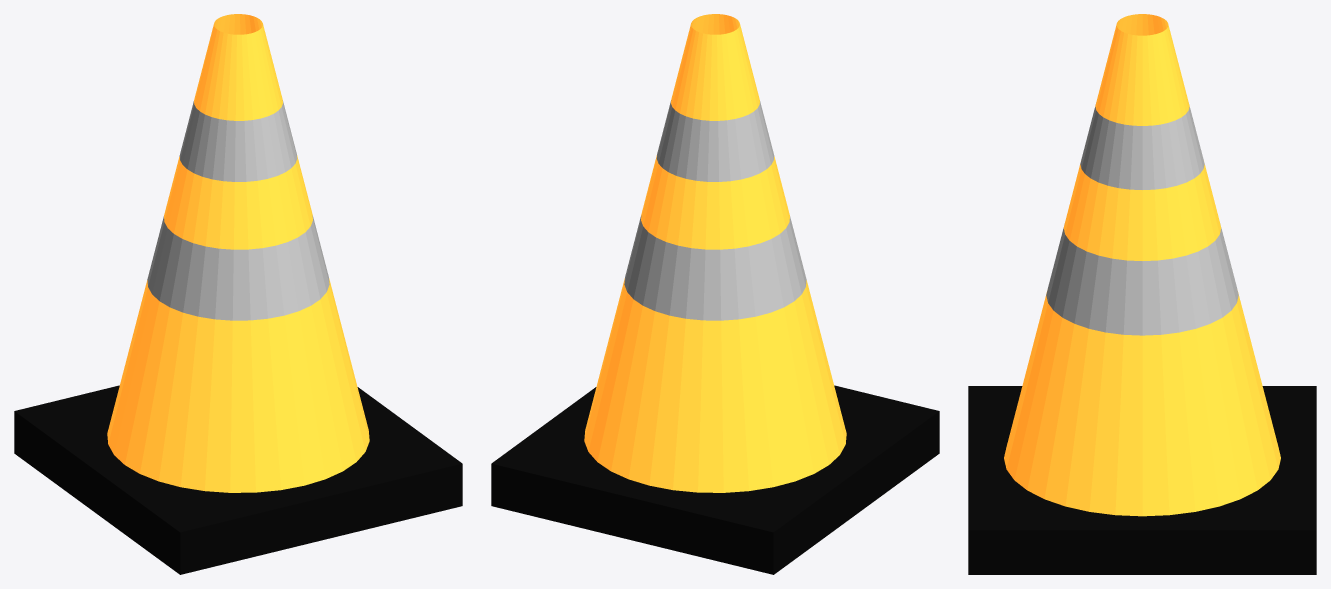
The model's file is Safety_Cone.fbx.
3 renders of one model, left to right at view 1: azimuth 30°, elevation 25°; view 2: azimuth 150°, elevation 25°; view 3: azimuth 270°, elevation 25°, orthographic. The views are drawn at different scales.
Parts seen in each view (by area): view 1: Cylinder, Safety_Cone; view 2: Cylinder, Safety_Cone; view 3: Cylinder, Safety_Cone.
Part boxes in pixels (x1,y1,x2,y2): Cylinder: (107, 14, 369, 492); Safety_Cone: (14, 385, 462, 574); Cylinder: (584, 14, 846, 492); Safety_Cone: (491, 385, 939, 574); Cylinder: (1004, 14, 1280, 516); Safety_Cone: (968, 386, 1316, 574).
Bounding box in the file's own units: 1392 × 2145 × 1417.
